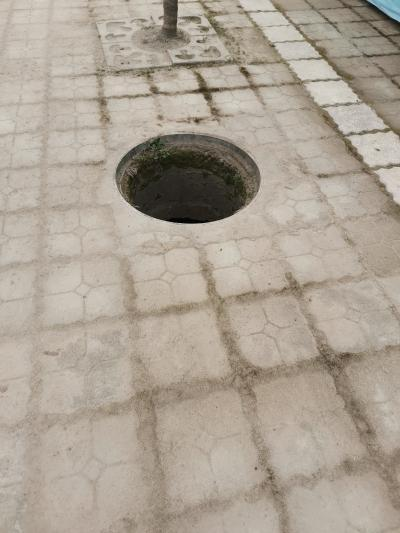lose: (106, 129, 264, 227)
